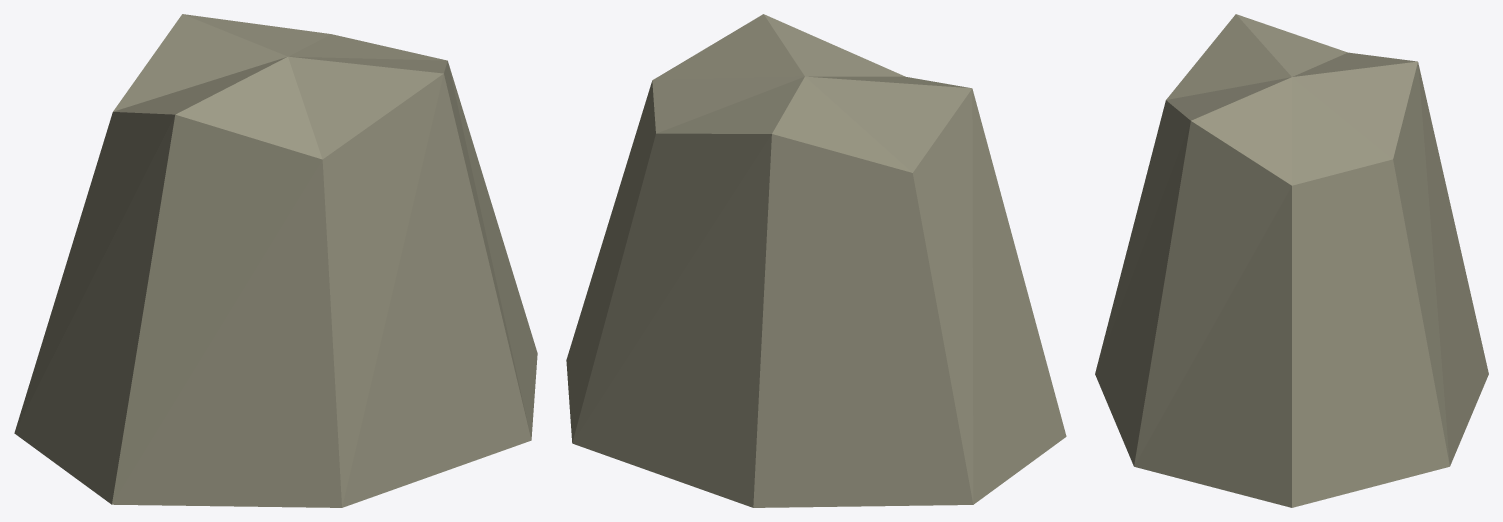
Rendered from rock_medium.glb.
3 renders of one model, left to right at view 1: azimuth 30°, elevation 25°; view 2: azimuth 150°, elevation 25°; view 3: azimuth 270°, elevation 25°, orthographic. The views are drawn at different scales.
Visible parts, largest first — view 1: rock_medium; view 2: rock_medium; view 3: rock_medium.
Boxes of the visible parts, bbox=[...] form: rock_medium: bbox=[14, 14, 537, 507]; rock_medium: bbox=[566, 14, 1066, 507]; rock_medium: bbox=[1095, 14, 1488, 507].
Bounding box in the file's own units: 2.5 × 1.8 × 2.
